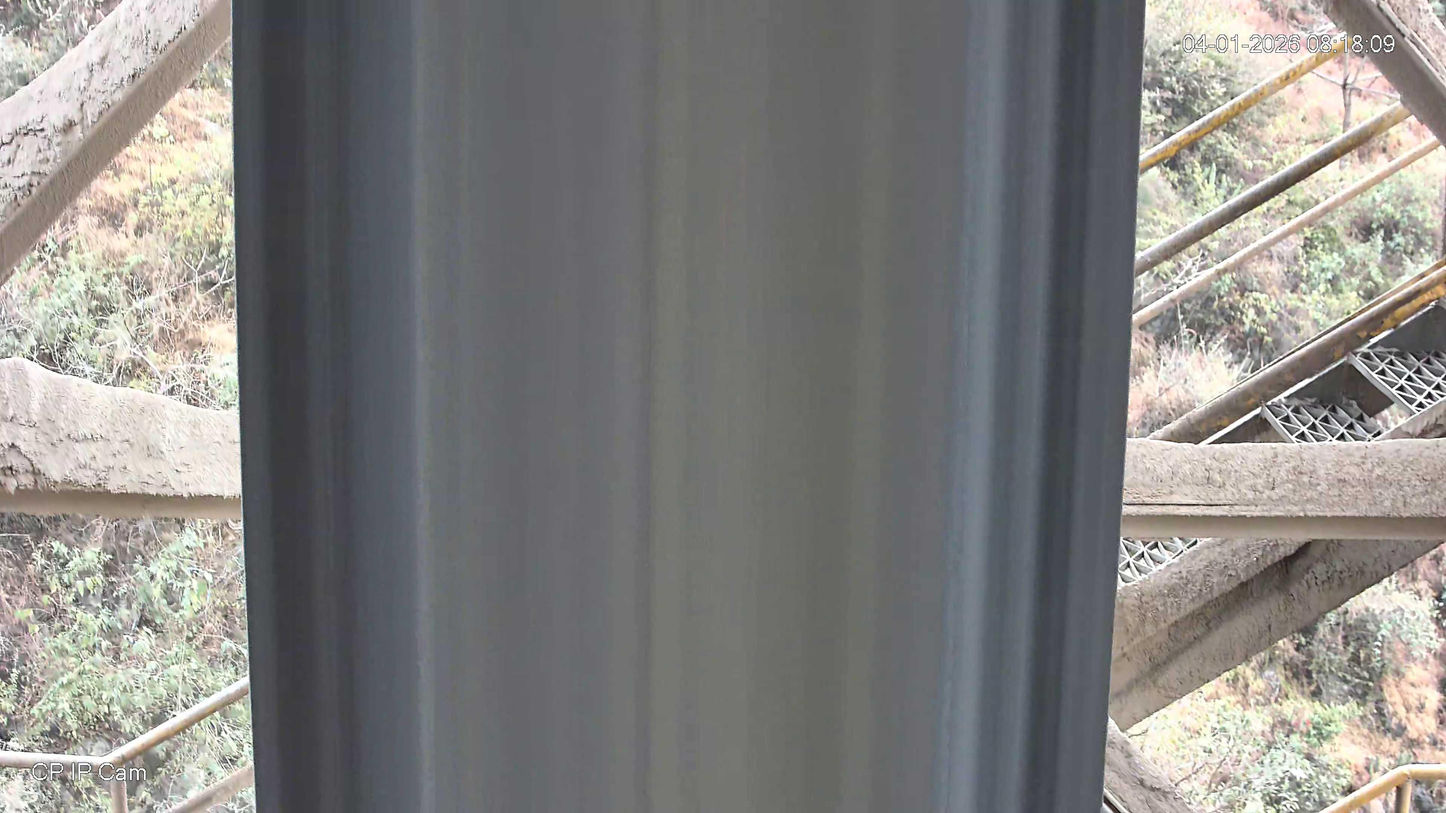belt_roi: (235, 0, 1149, 813)
